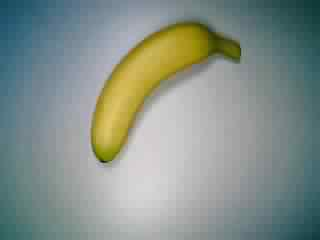banana: (87, 21, 245, 166)
